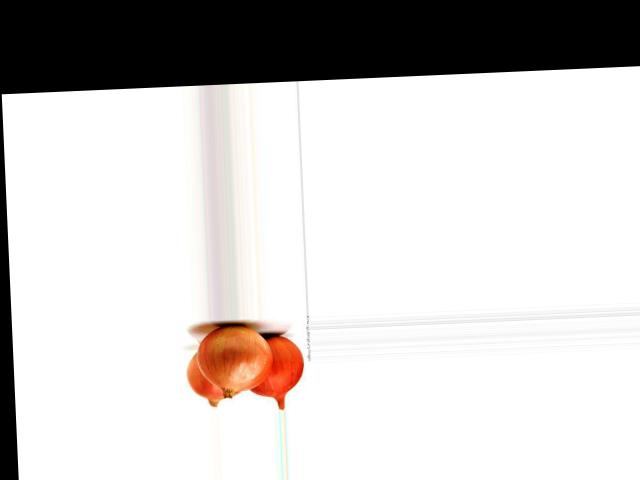onion: (245, 329, 305, 406)
